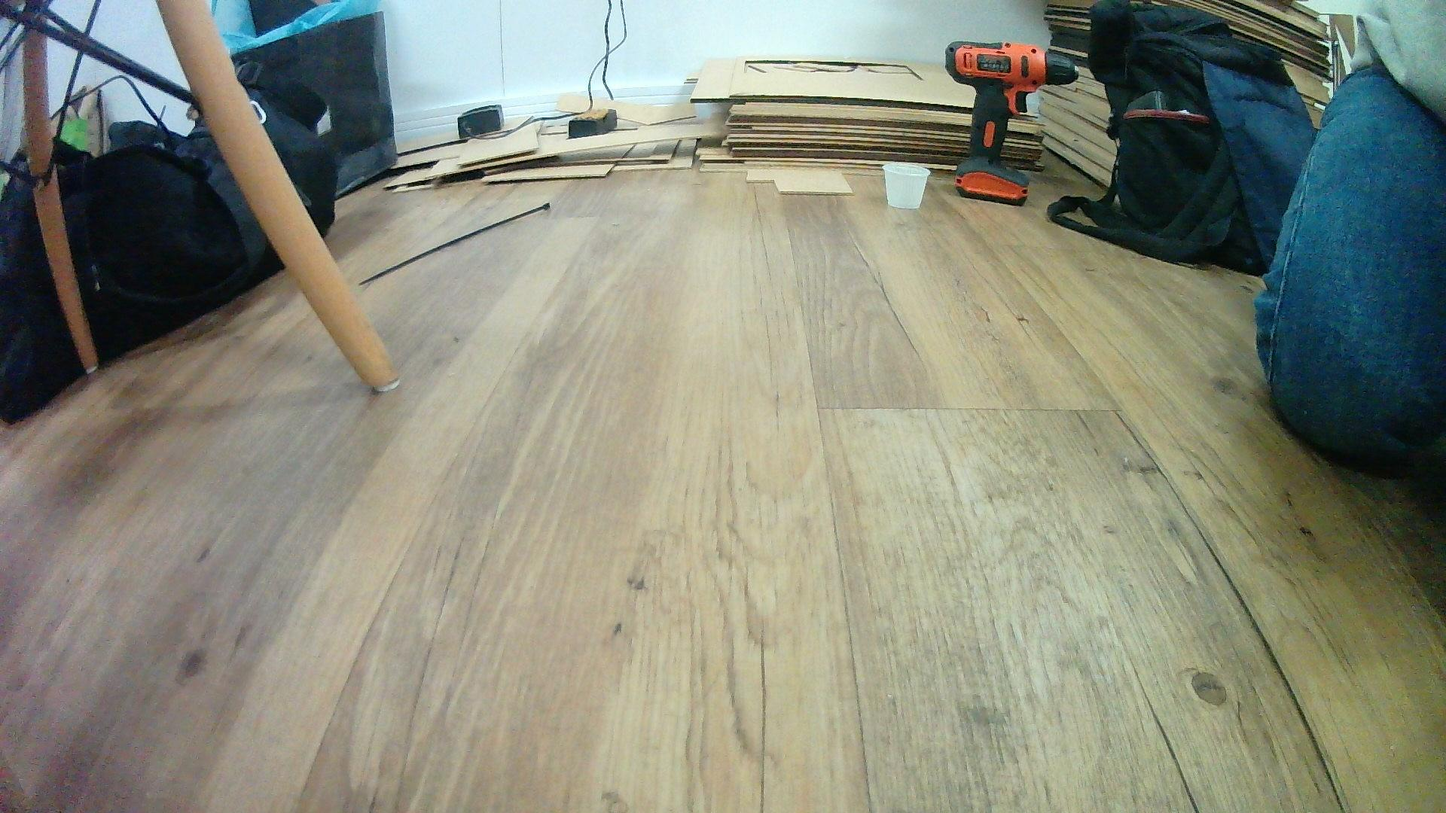planta: (878, 158, 932, 216)
